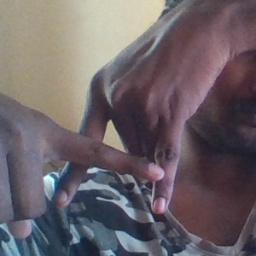H: (41, 85, 180, 217)
